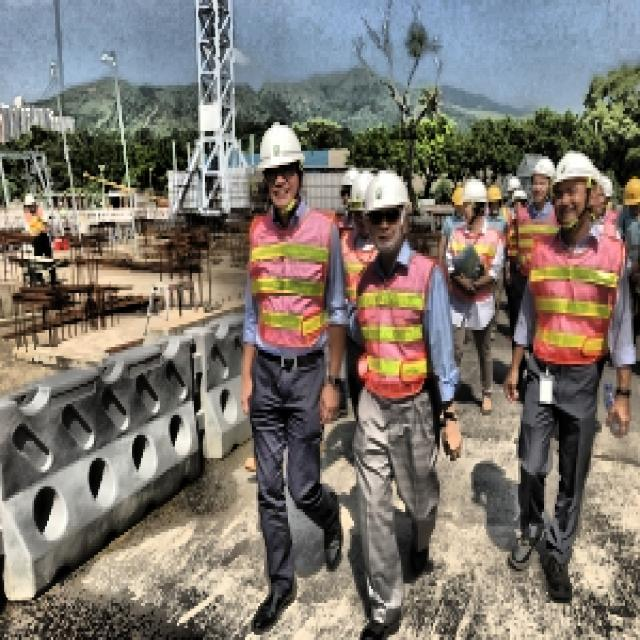safety_helmet: (254, 120, 309, 177), (361, 169, 406, 223), (549, 148, 593, 192), (348, 164, 378, 213), (529, 152, 554, 185), (462, 178, 487, 207), (336, 168, 360, 194), (624, 174, 640, 207), (502, 172, 523, 195), (487, 183, 508, 205), (452, 188, 467, 211)
safety_jacket: (342, 250, 451, 398), (243, 202, 339, 358), (525, 228, 623, 365)
